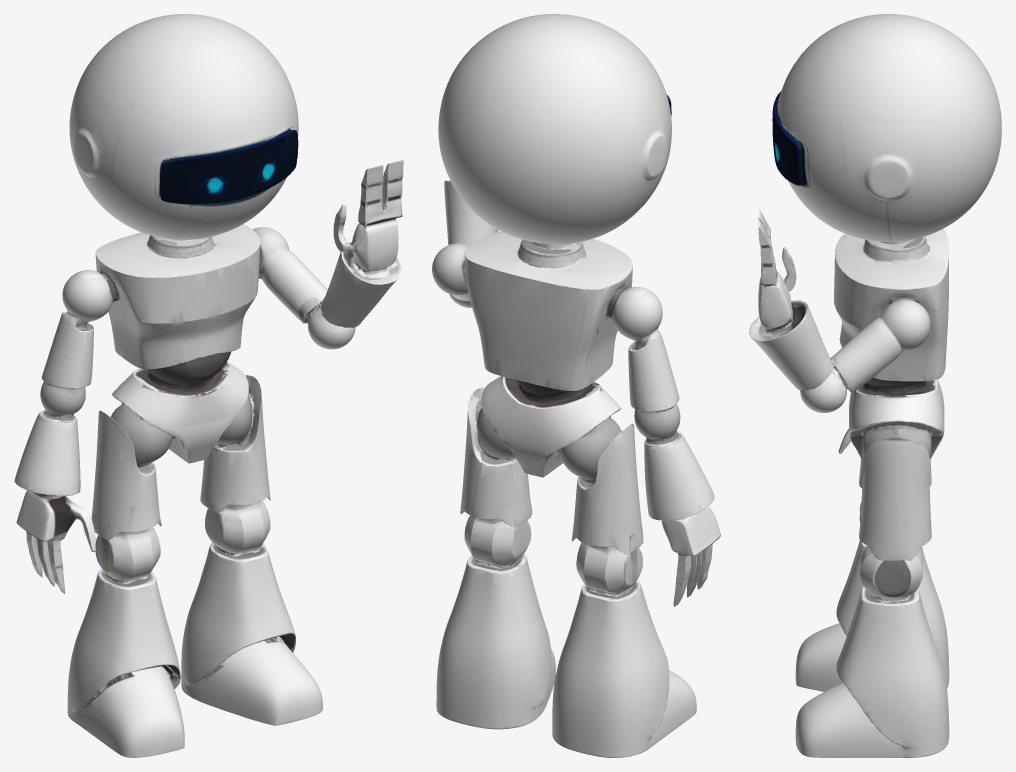
Rendered from robot.glb.
3 views of the same model, side by side, from view 1: azimuth 30°, elevation 25°; view 2: azimuth 150°, elevation 25°; view 3: azimuth 270°, elevation 25° (orthographic).
Visible parts, largest first — view 1: Object_2; view 2: Object_2; view 3: Object_2.
Boxes of the visible parts, box(x1,y1,x2,y2) form: Object_2: box(14, 14, 403, 757); Object_2: box(432, 14, 720, 757); Object_2: box(749, 14, 1001, 757).
Size of the model in its own units: 0.9297 by 1.9 by 0.6373.
1 material, 1 textured.
